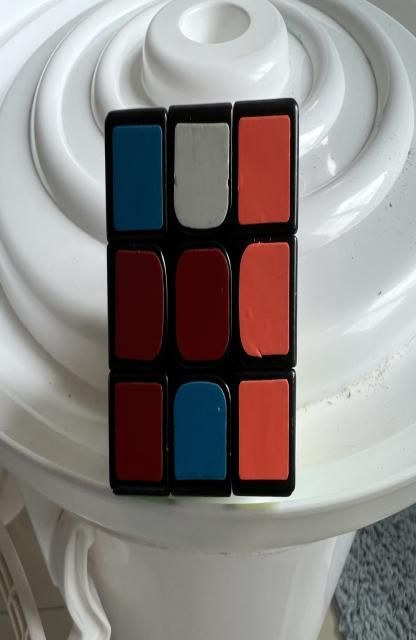Blue: (112, 125, 162, 232), (174, 382, 227, 482)
Orange: (239, 242, 289, 358), (238, 115, 290, 225), (239, 378, 289, 480)
Red: (176, 248, 229, 362), (115, 250, 164, 360), (115, 382, 162, 482)
White: (174, 122, 230, 228)
